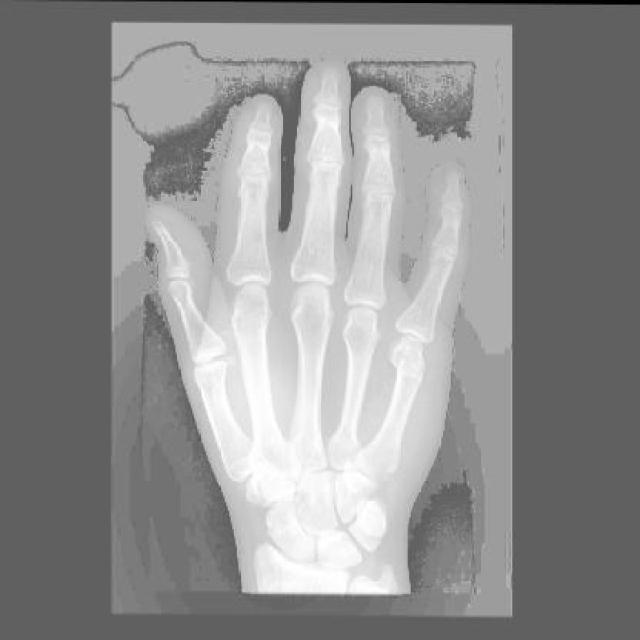Fracture: (391, 346, 428, 383)
